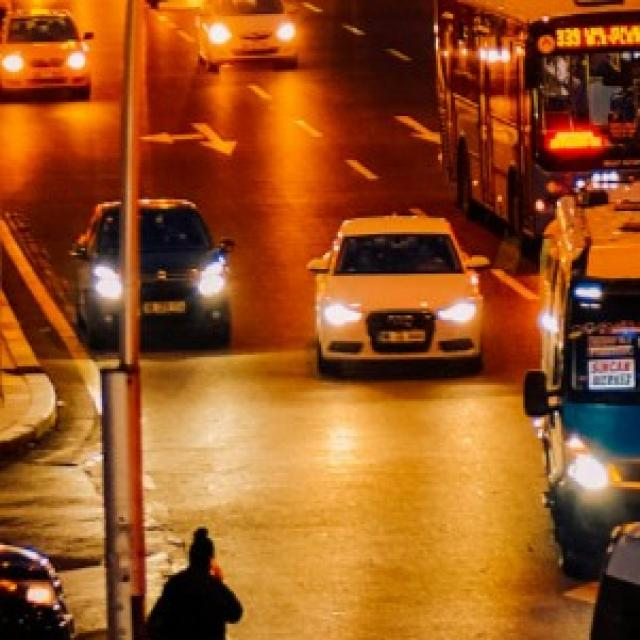bus: (431, 0, 640, 241), (523, 177, 640, 570), (574, 503, 640, 640)
car: (308, 211, 488, 373), (71, 199, 234, 342), (0, 8, 93, 100), (192, 0, 296, 72)
